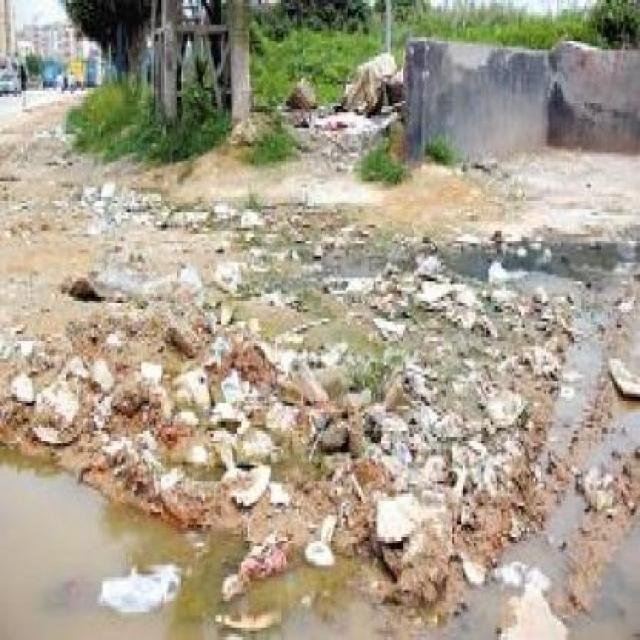garbage: (0, 200, 638, 637)
